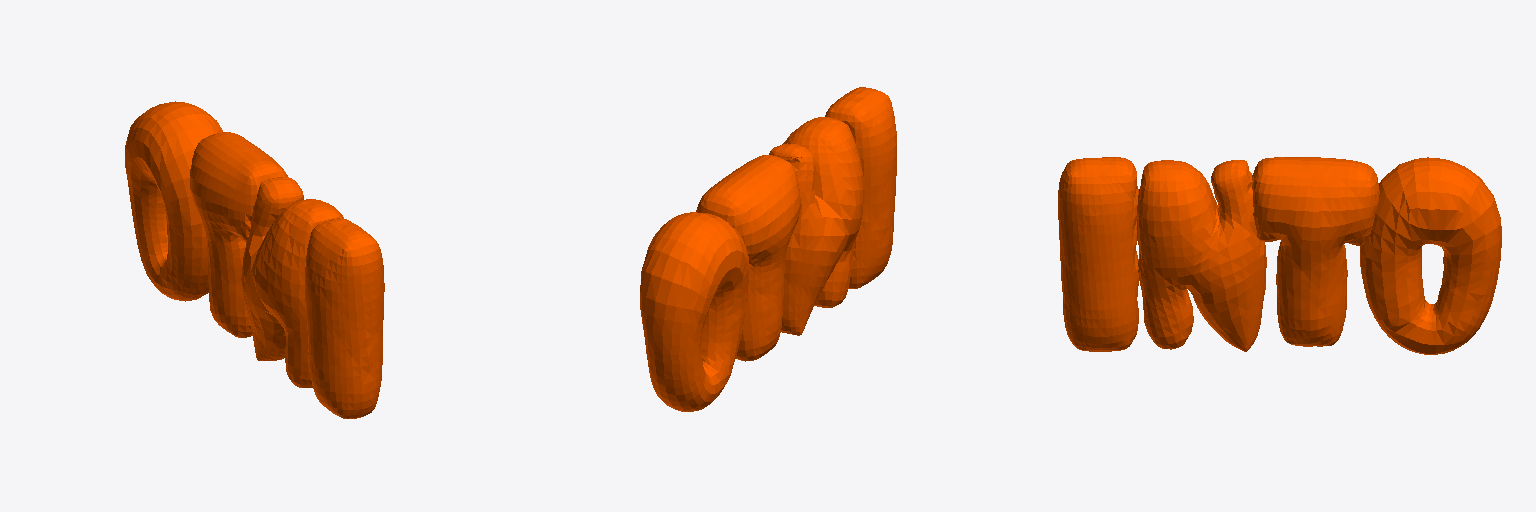
Rendered from 07_into.obj.
The picture shows the model from 3 angles: view 1: azimuth 30°, elevation 25°; view 2: azimuth 150°, elevation 25°; view 3: azimuth 270°, elevation 25°; orthographic projection.
Visible parts, largest first — view 1: _into:into; view 2: _into:into; view 3: _into:into.
Part boxes in pixels (x1,y1,x2,y2): _into:into: (125,101,384,418); _into:into: (640,87,896,411); _into:into: (1058,157,1501,354).
Bounding box in the file's own units: 0.1495 × 0.3257 × 0.6806.